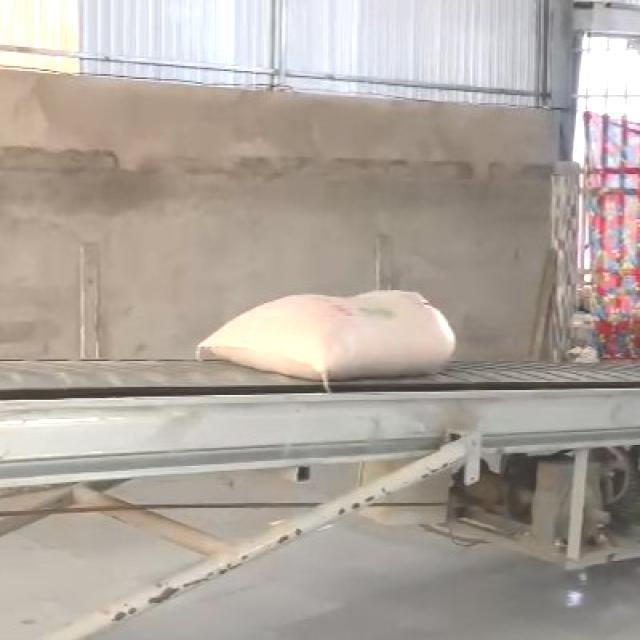gunny_bag: (197, 290, 456, 389)
